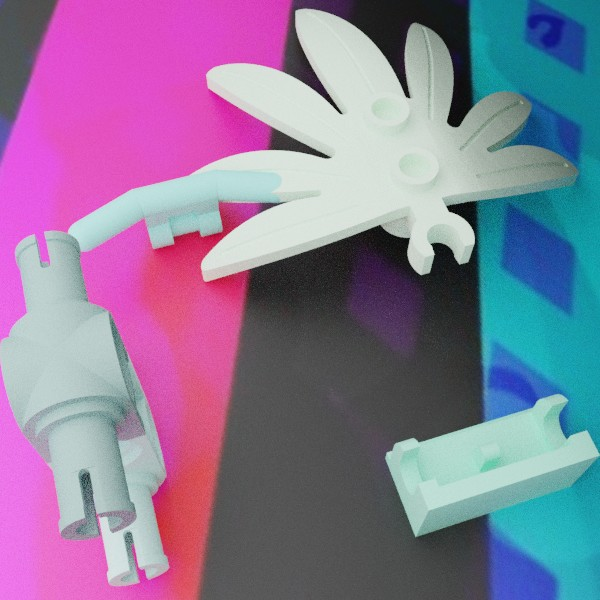lego: (183, 8, 579, 281), (0, 230, 169, 586), (385, 394, 599, 537), (67, 169, 292, 251)
